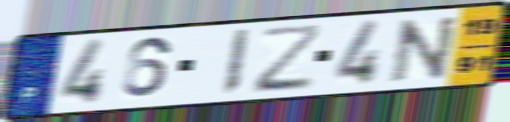4: (331, 16, 383, 89), (56, 36, 108, 108)
6: (122, 34, 174, 102)
I: (218, 27, 253, 98)
N: (388, 13, 462, 85)
Z: (253, 22, 326, 96)
